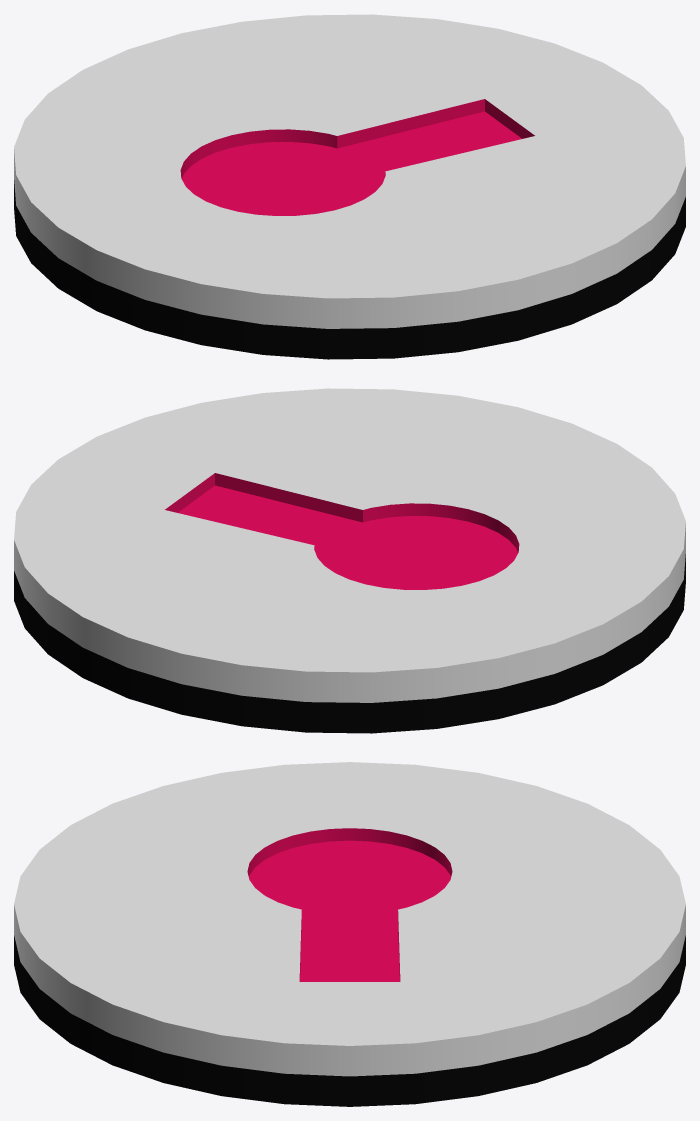
The model's file is othello_secret.fbx.
The picture shows the model from 3 angles, top to bottom: view 1: azimuth 30°, elevation 25°; view 2: azimuth 150°, elevation 25°; view 3: azimuth 270°, elevation 25°; orthographic projection.
Parts seen in each view (by area): view 1: piece; view 2: piece; view 3: piece.
Part boxes in pixels (x1=…): piece: x1=14, y1=14, x2=685, y2=359; piece: x1=14, y1=388, x2=685, y2=733; piece: x1=14, y1=762, x2=685, y2=1106.
Bounding box in the file's own units: 200 × 20 × 200.
